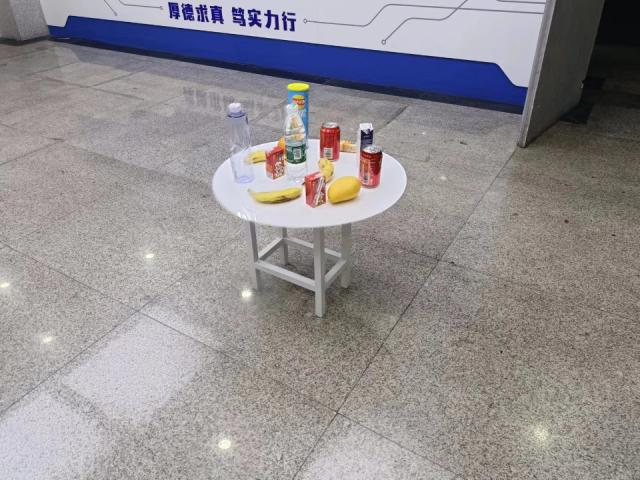Canned_drinks: (360, 144, 382, 188), (319, 121, 341, 161)
bottle: (222, 101, 256, 182), (284, 103, 308, 183)
cylinder: (287, 82, 311, 152)
drink_box: (304, 172, 327, 207), (357, 122, 374, 164), (265, 146, 285, 179)
